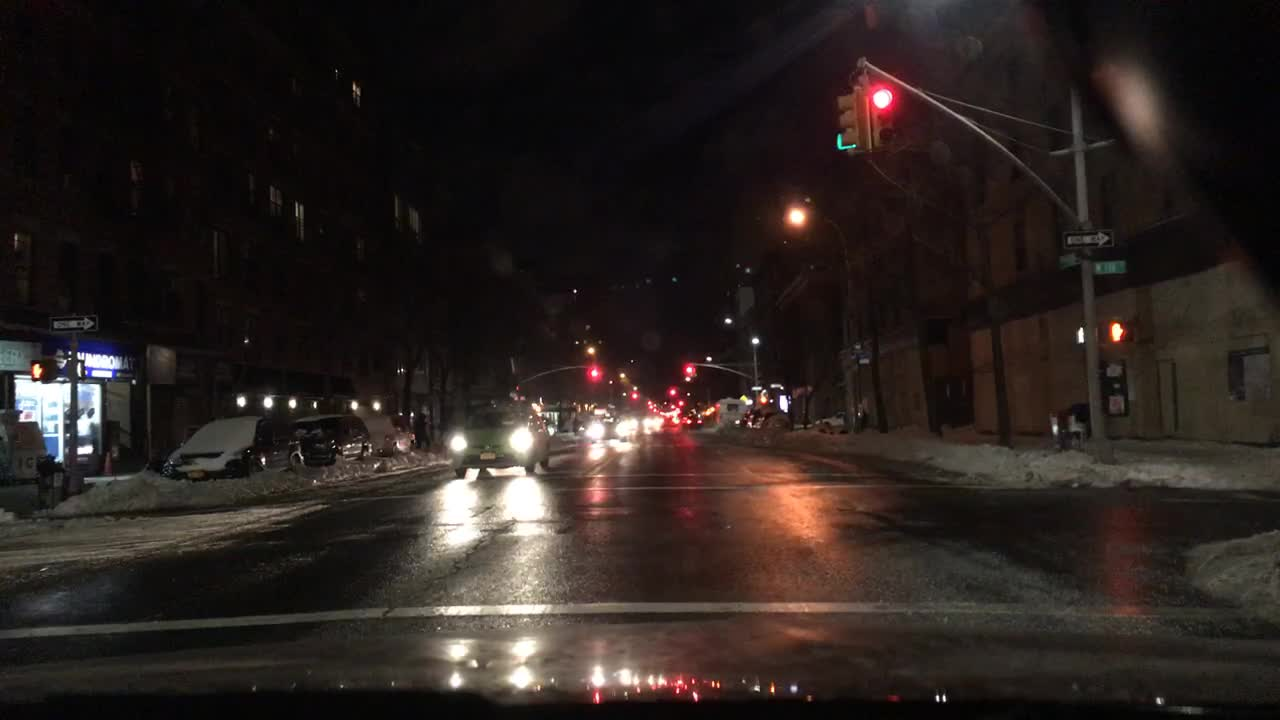bus: (712, 396, 746, 431)
car: (162, 416, 301, 479), (447, 401, 551, 475), (295, 410, 371, 469), (361, 416, 409, 455), (587, 414, 632, 440), (756, 409, 796, 431), (746, 406, 774, 429), (816, 409, 848, 426), (639, 415, 666, 431), (683, 416, 700, 427)
person: (413, 414, 431, 446)
traffic light: (865, 84, 894, 149), (832, 89, 860, 150), (1103, 320, 1135, 341), (28, 359, 57, 381), (66, 359, 83, 379), (1076, 326, 1089, 341), (686, 364, 695, 379), (758, 394, 769, 404), (591, 366, 598, 381), (632, 391, 638, 404), (670, 388, 676, 400)
traffic sign: (1060, 228, 1114, 248), (48, 314, 98, 333), (1093, 260, 1129, 274), (1059, 253, 1079, 268), (771, 381, 783, 389), (751, 385, 763, 391)
